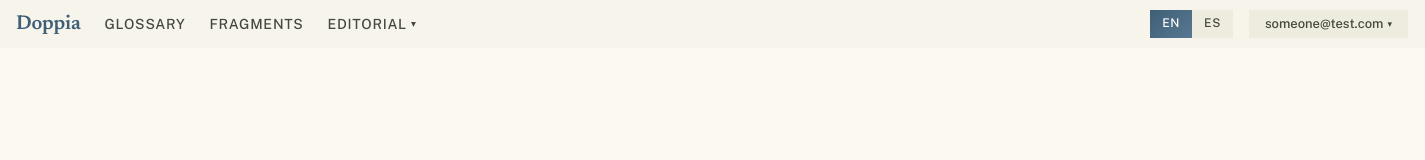
Test case: editorial menu › gives an editor the editorial surfaces but not the admin ones
What coordinates should you click on to do the following:
click the button "Editorial ▾"
I would click on:
 (372, 24)
Its box is [328, 13, 416, 35].
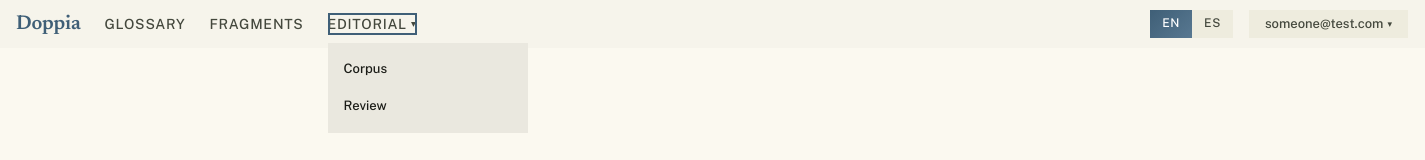
Result: the menu item "Review" is shown at [344, 98, 387, 113]
